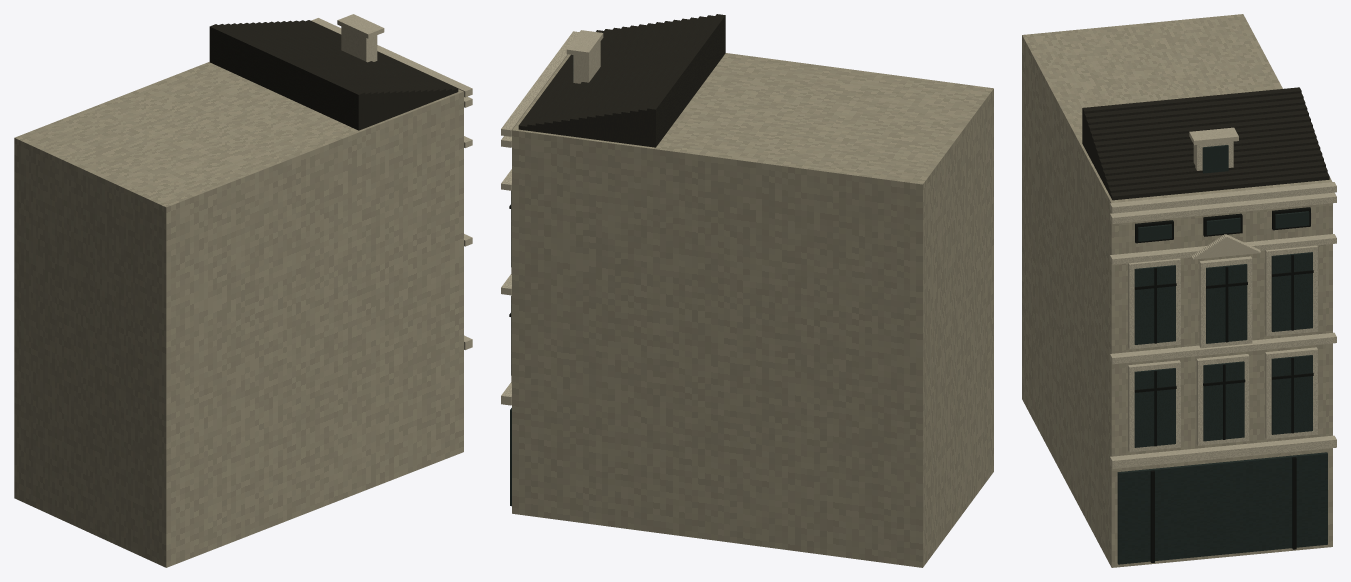
3 renders of one model, left to right at view 1: azimuth 30°, elevation 25°; view 2: azimuth 150°, elevation 25°; view 3: azimuth 270°, elevation 25°, orthographic. The views are drawn at different scales.
Parts seen in each view (by area): view 1: old-dutch-coolsingel103-0, old-dutch-coolsingel103-4, old-dutch-coolsingel103-1; view 2: old-dutch-coolsingel103-0, old-dutch-coolsingel103-4, old-dutch-coolsingel103-1; view 3: old-dutch-coolsingel103-0, old-dutch-coolsingel103-2, old-dutch-coolsingel103-1, old-dutch-coolsingel103-4, old-dutch-coolsingel103-3.
Boxes of the visible parts, bbox=[...] form: old-dutch-coolsingel103-0: bbox=[14, 62, 463, 567]; old-dutch-coolsingel103-4: bbox=[209, 20, 458, 130]; old-dutch-coolsingel103-1: bbox=[311, 14, 472, 349]; old-dutch-coolsingel103-0: bbox=[512, 53, 993, 567]; old-dutch-coolsingel103-4: bbox=[518, 14, 725, 147]; old-dutch-coolsingel103-1: bbox=[501, 30, 603, 405]; old-dutch-coolsingel103-0: bbox=[1022, 14, 1332, 567]; old-dutch-coolsingel103-2: bbox=[1117, 145, 1327, 564]; old-dutch-coolsingel103-1: bbox=[1110, 127, 1336, 468]; old-dutch-coolsingel103-4: bbox=[1082, 87, 1329, 200]; old-dutch-coolsingel103-3: bbox=[1134, 207, 1313, 562].
Size of the model in its own units: 13.48 by 13.21 by 9.24.
5 materials, 5 textured.
